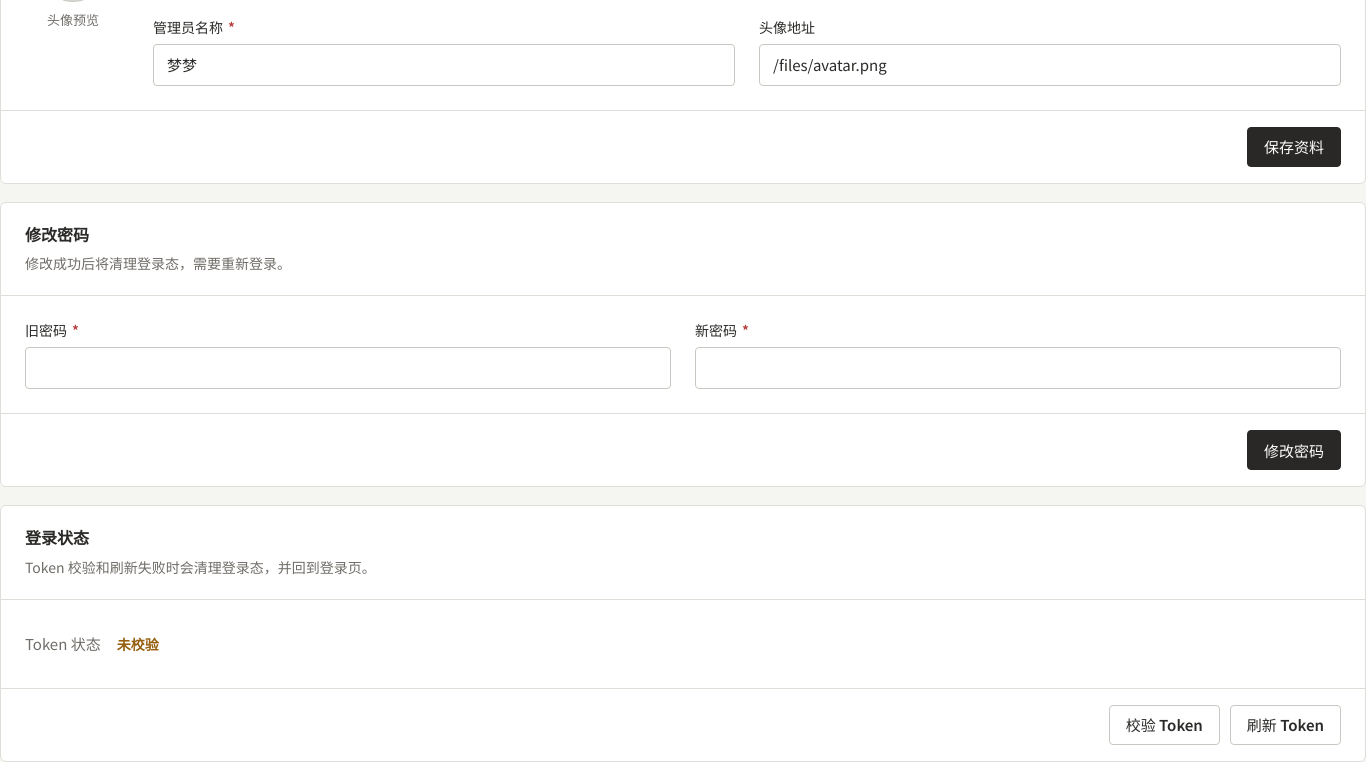
管理员设置页 › 刷新 Token 成功后应只更新 token 不改 currentUser
(page scrolled)
Expected: the field showing "梦梦" is shown, [154,45,734,85]
Click the button "刷新 Token" at (1285, 725), box [1230,705,1341,745]
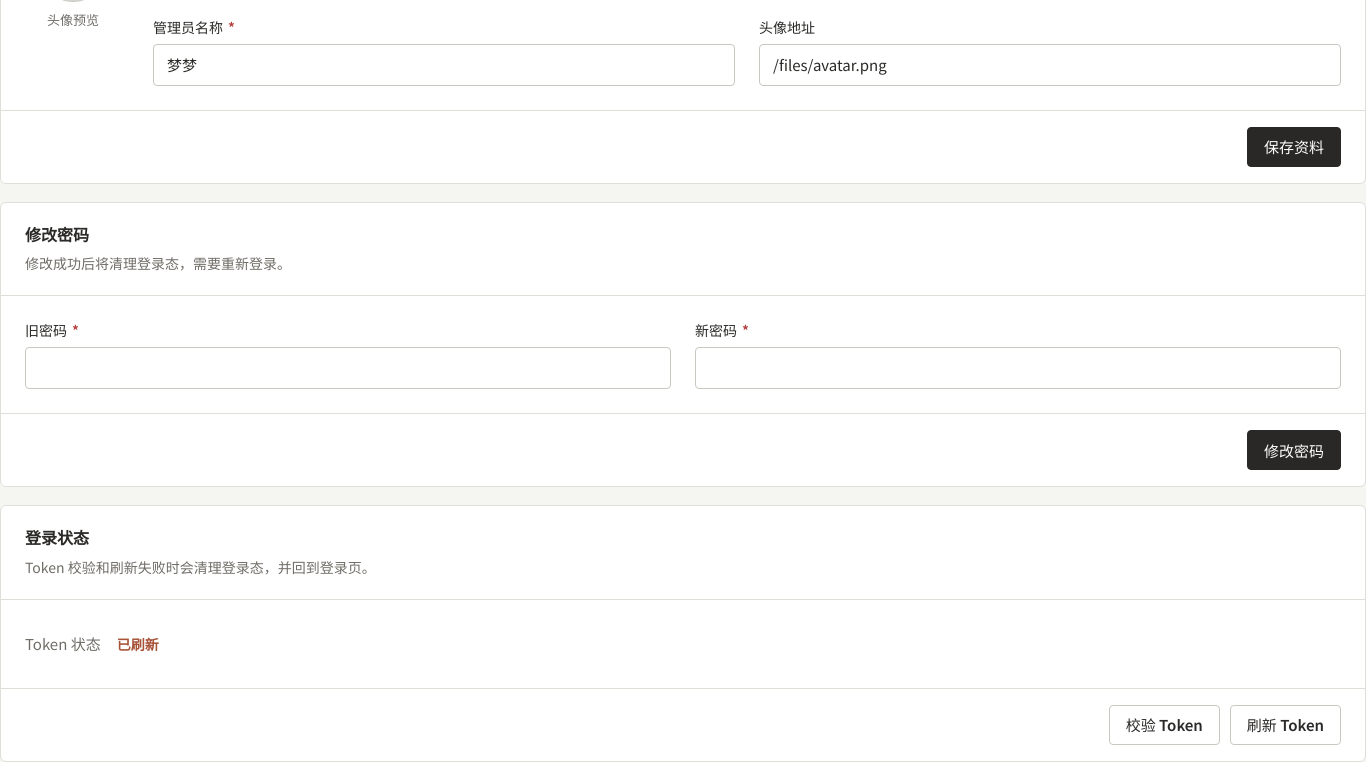
Result: the text "已刷新" is shown at [117,634,159,654]
